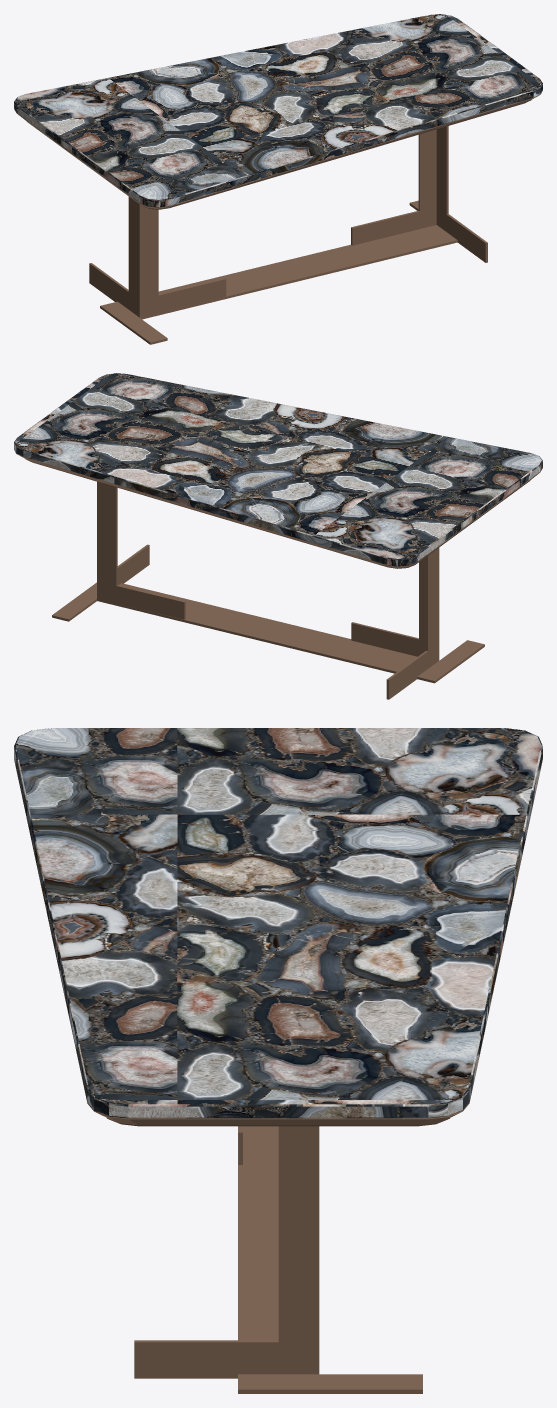
File: SBH_Surefooted_B.glb
The picture shows the model from 3 angles, top to bottom: view 1: azimuth 30°, elevation 25°; view 2: azimuth 150°, elevation 25°; view 3: azimuth 270°, elevation 25°; orthographic projection. The views are drawn at different scales.
Visible parts, largest first — view 1: Surefooted_B; view 2: Surefooted_B; view 3: Surefooted_B.
Part boxes in pixels (x1,y1,x2,y2): Surefooted_B: [14, 14, 542, 344]; Surefooted_B: [14, 373, 542, 699]; Surefooted_B: [14, 728, 542, 1393].
Size of the model in its own units: 1.17 by 0.4592 by 0.6906.
Materials: 2 (1 with a texture image).
